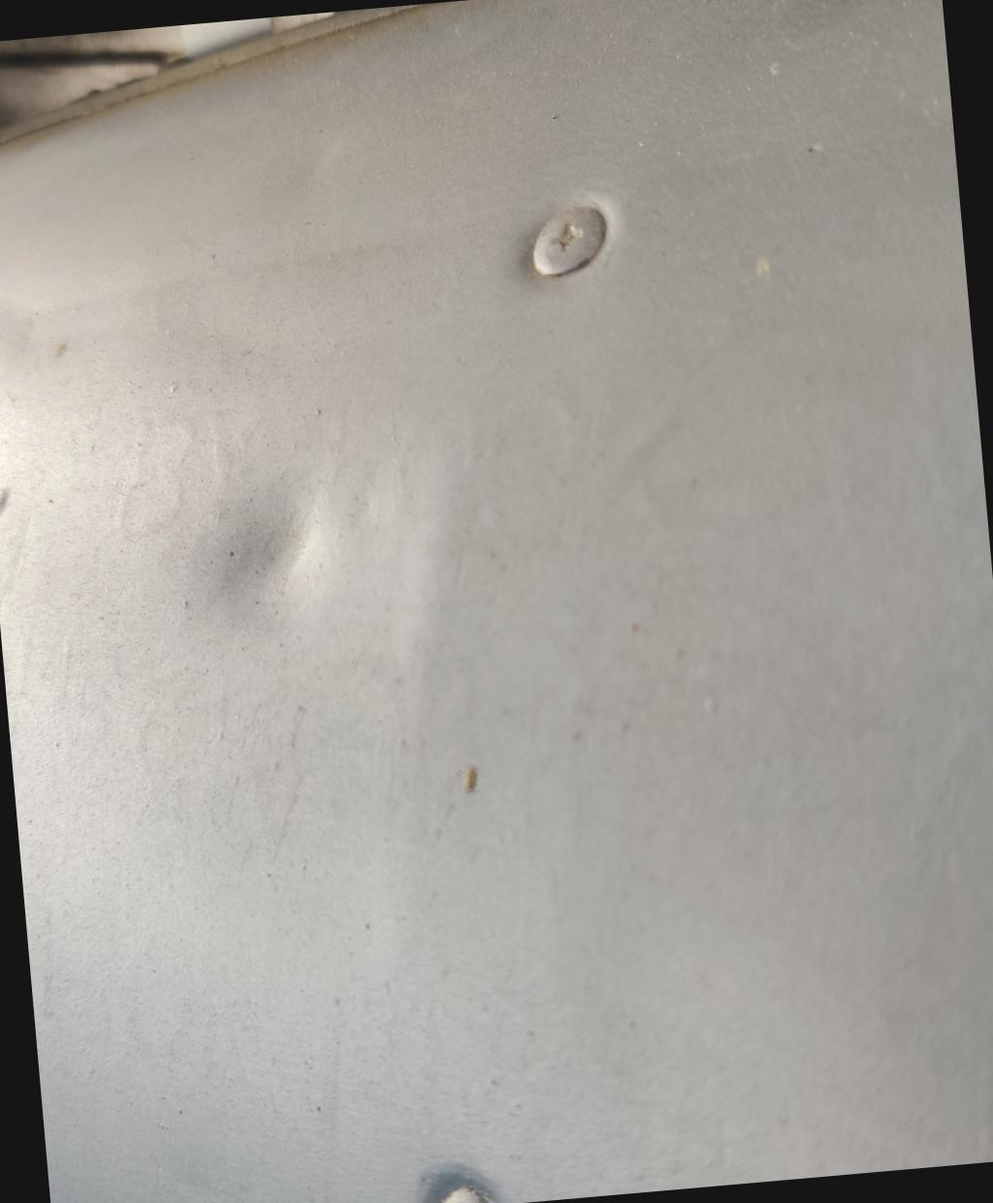dent: (161, 440, 380, 689)
